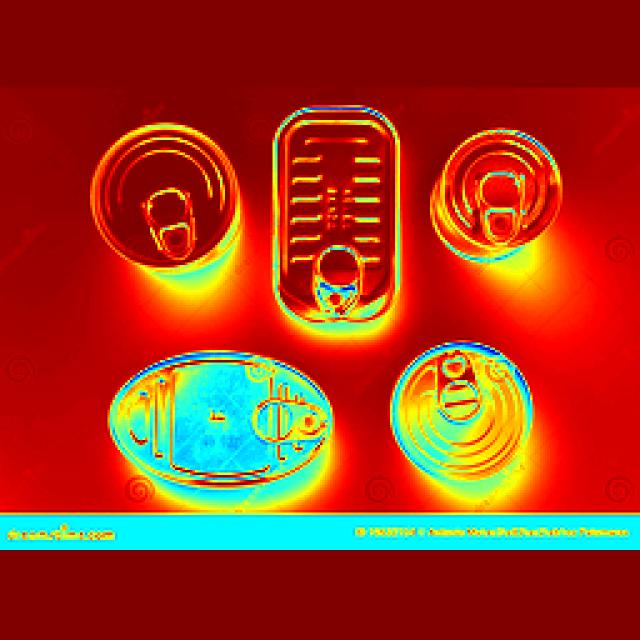Aluminium Food Cans: (71, 307, 318, 523), (259, 86, 426, 380), (84, 96, 260, 294), (378, 346, 528, 491), (439, 116, 561, 272)
